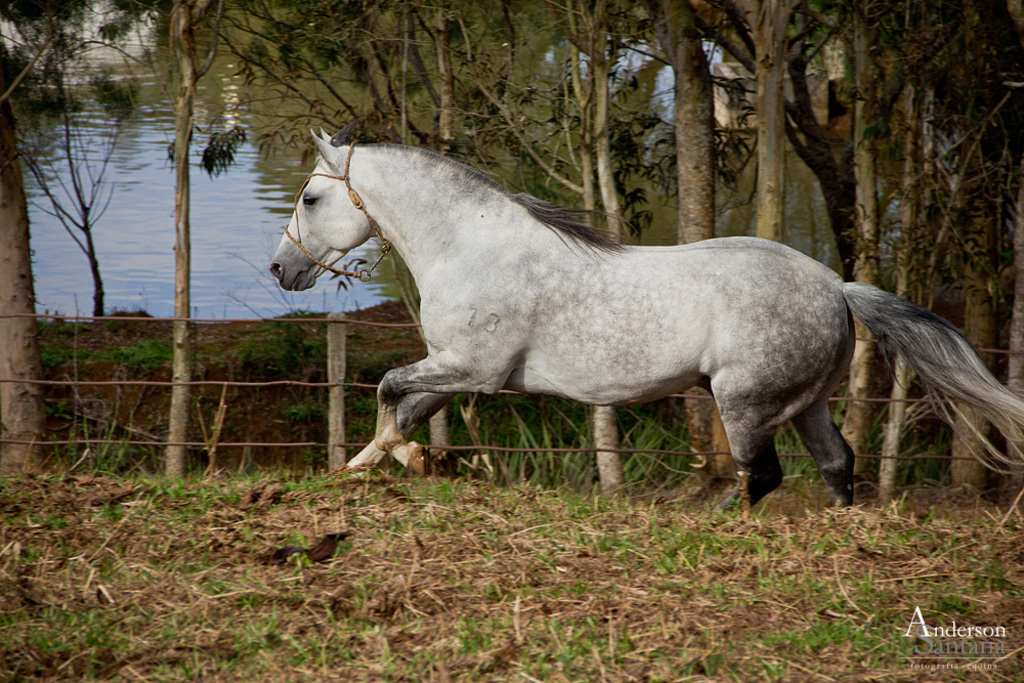horse: (269, 125, 1022, 516)
